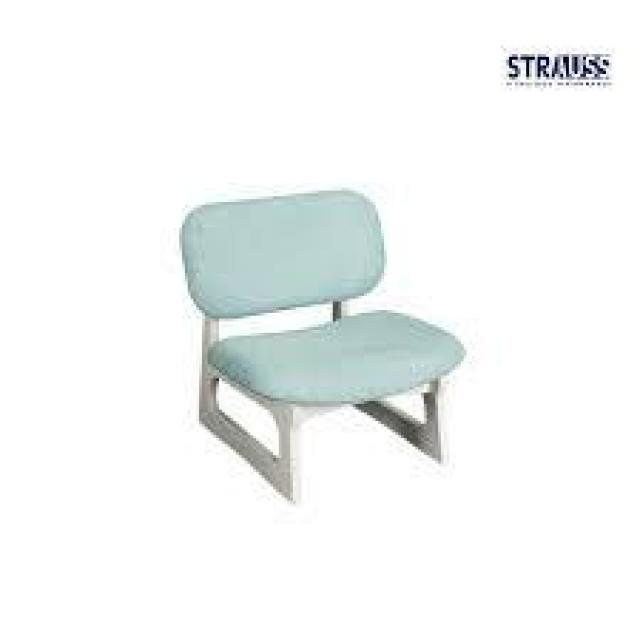chair: (149, 138, 471, 522)
